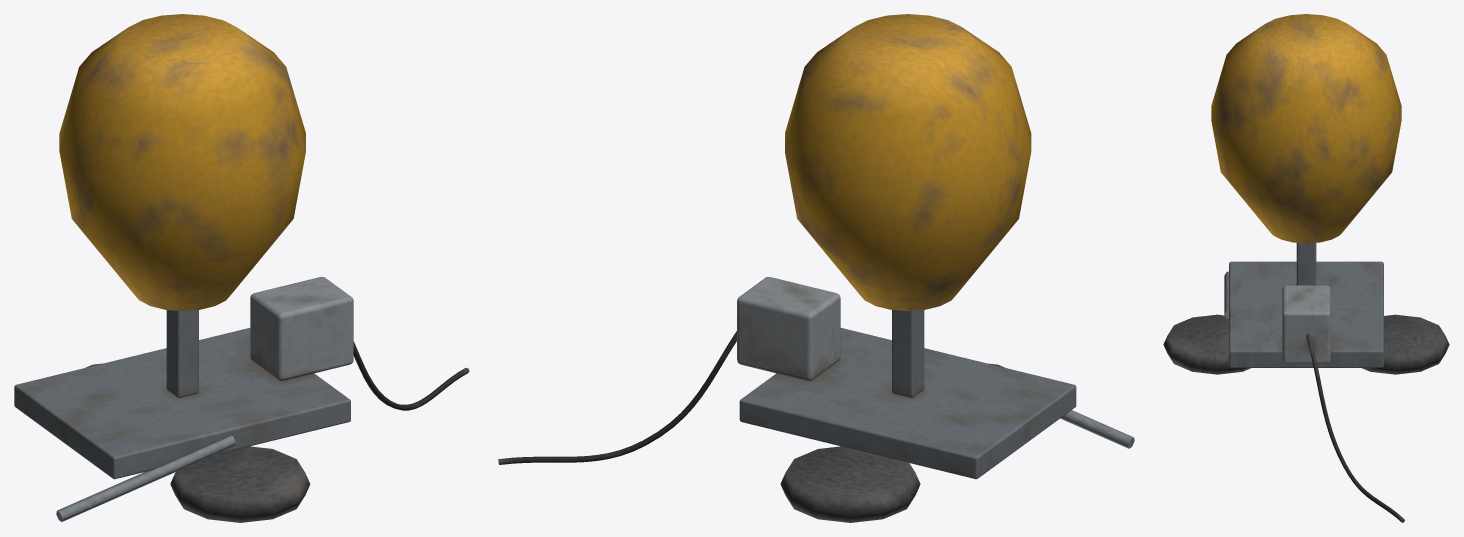
File: budowa_betoniarka.glb
3 views of the same model, side by side, from view 1: azimuth 30°, elevation 25°; view 2: azimuth 150°, elevation 25°; view 3: azimuth 270°, elevation 25° (orthographic). The views are drawn at different scales.
Visible parts, largest first — view 1: Betoniarka; view 2: Betoniarka; view 3: Betoniarka.
Boxes of the visible parts, <box> form: Betoniarka: <box>14,14,469,522</box>; Betoniarka: <box>498,14,1134,522</box>; Betoniarka: <box>1163,14,1449,522</box>.
Bounding box in the file's own units: 2.41 × 2.04 × 1.48.
Materials: 1 (1 with a texture image).
